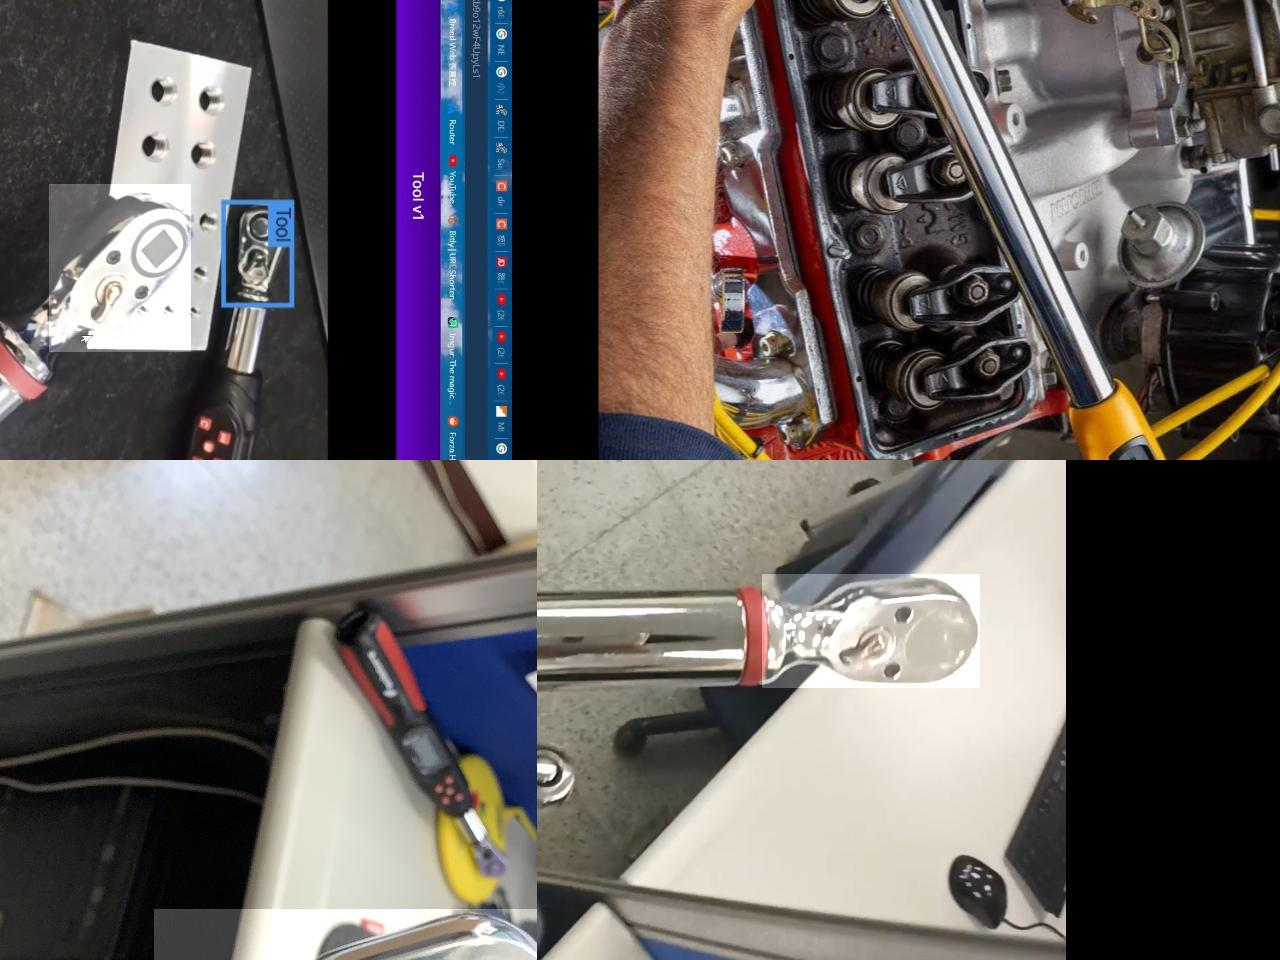Tool: (761, 574, 979, 688), (48, 184, 190, 352), (537, 743, 580, 813)
